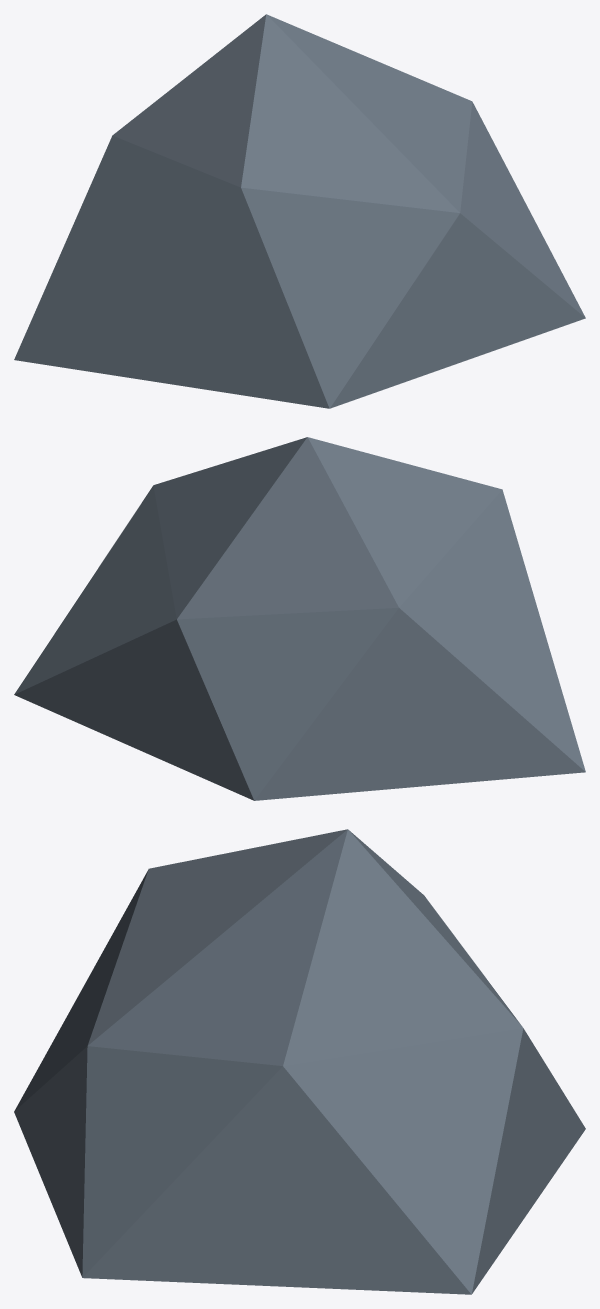
The model's file is rock1.fbx.
The picture shows the model from 3 angles, top to bottom: view 1: azimuth 30°, elevation 25°; view 2: azimuth 150°, elevation 25°; view 3: azimuth 270°, elevation 25°; orthographic projection. The views are drawn at different scales.
Parts seen in each view (by area): view 1: rock1; view 2: rock1; view 3: rock1.
Part boxes in pixels (x1,y1,x2,y2): rock1: [14, 14, 585, 408]; rock1: [14, 437, 585, 800]; rock1: [14, 829, 585, 1294].
Size of the model in its own units: 112 by 58.42 by 92.55.
